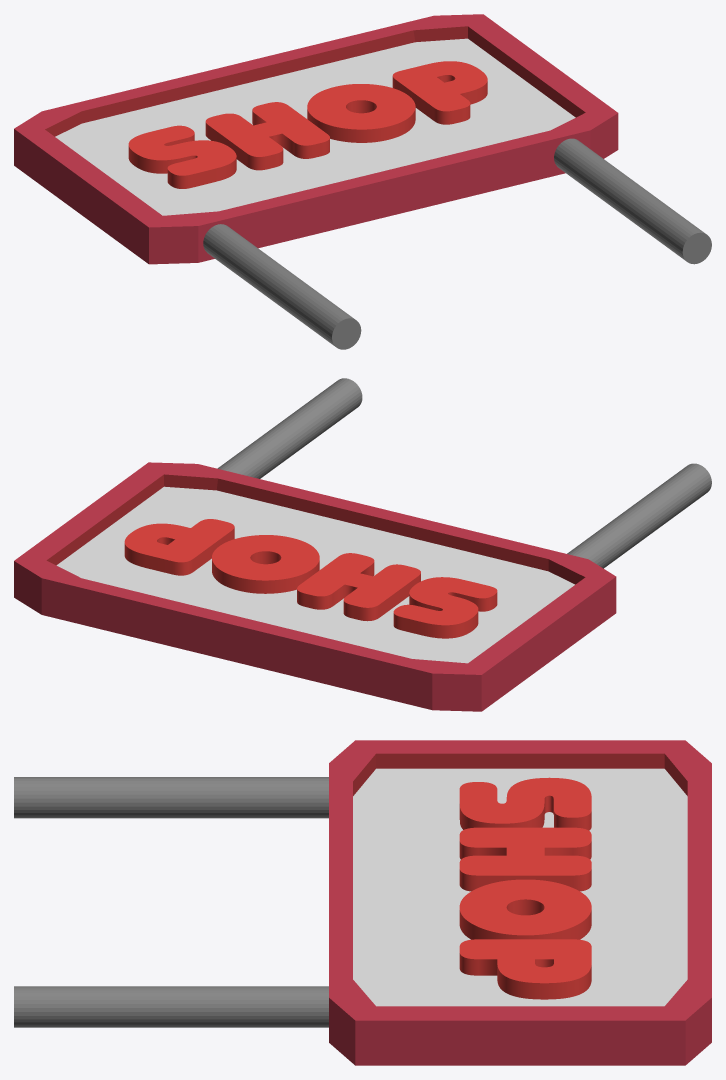
The model's file is shop sign.fbx.
The picture shows the model from 3 angles, top to bottom: view 1: azimuth 30°, elevation 25°; view 2: azimuth 150°, elevation 25°; view 3: azimuth 270°, elevation 25°; orthographic projection. The views are drawn at different scales.
Visible parts, largest first — view 1: Plane.003, Text.003, Cylinder.003; view 2: Plane.003, Text.003, Cylinder.003; view 3: Plane.003, Text.003, Cylinder.003.
Part boxes in pixels (x1,y1,x2,y2): Plane.003: (14, 14, 618, 264); Text.003: (128, 61, 487, 188); Cylinder.003: (203, 138, 711, 349); Plane.003: (14, 462, 616, 711); Text.003: (124, 519, 497, 638); Cylinder.003: (217, 378, 711, 568); Plane.003: (329, 740, 711, 1065); Text.003: (459, 777, 591, 999); Cylinder.003: (14, 777, 328, 1027).
Size of the model in its own units: 422 by 32.53 by 444.
